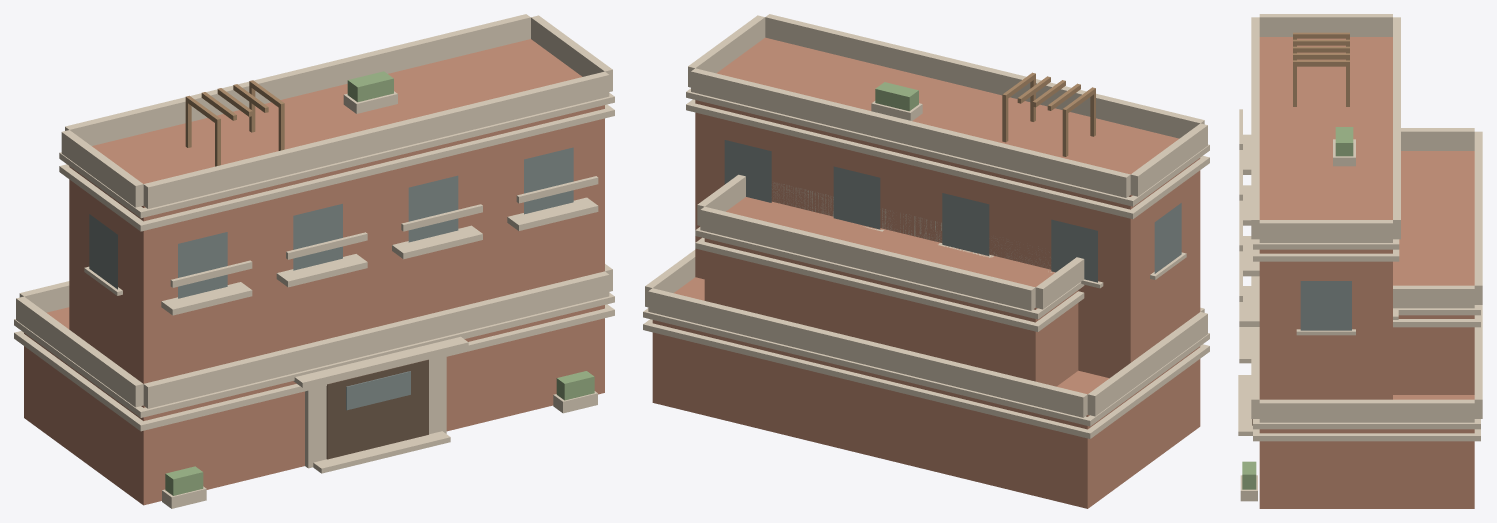
Rendered from residential_2x1_court.glb.
3 views of the same model, side by side, from view 1: azimuth 30°, elevation 25°; view 2: azimuth 150°, elevation 25°; view 3: azimuth 270°, elevation 25° (orthographic). The views are drawn at different scales.
Parts seen in each view (by area): view 1: residential_2x1_court_0; view 2: residential_2x1_court_0; view 3: residential_2x1_court_0.
Boxes of the visible parts, x1,y1,x2,y2 form: residential_2x1_court_0: [14, 14, 614, 508]; residential_2x1_court_0: [643, 14, 1209, 508]; residential_2x1_court_0: [1238, 14, 1482, 508].
Size of the model in its own units: 15 by 10.5 by 7.4.
